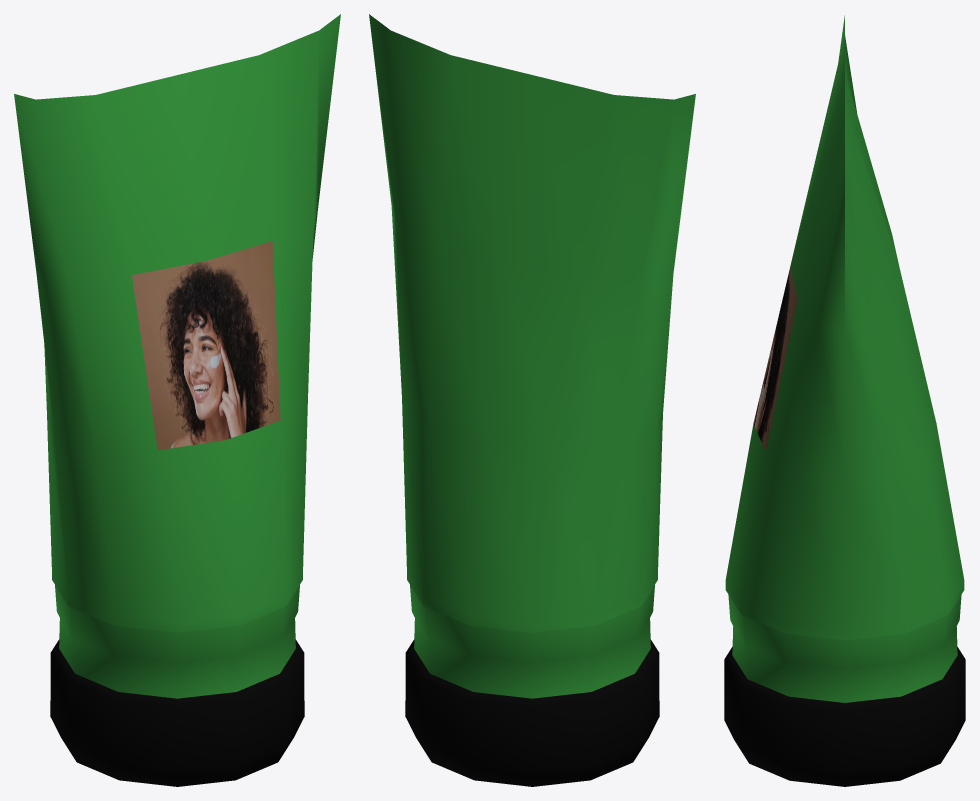
File: Bote de cosmetica.fbx
The picture shows the model from 3 angles, left to right: view 1: azimuth 30°, elevation 25°; view 2: azimuth 150°, elevation 25°; view 3: azimuth 270°, elevation 25°; orthographic projection. The views are drawn at different scales.
Parts seen in each view (by area): view 1: bote de cosmetico; view 2: bote de cosmetico; view 3: bote de cosmetico.
Part boxes in pixels (<box>): bote de cosmetico: <box>14,14,340,786</box>; bote de cosmetico: <box>369,14,695,786</box>; bote de cosmetico: <box>724,15,965,786</box>.
Bounding box in the file's own units: 10.55 × 21.35 × 7.1.
3 materials, 1 textured.
